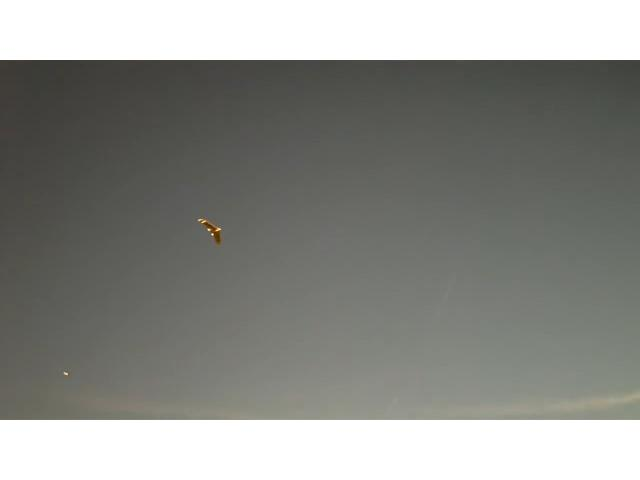Anti-Drone: (199, 220, 221, 244)
